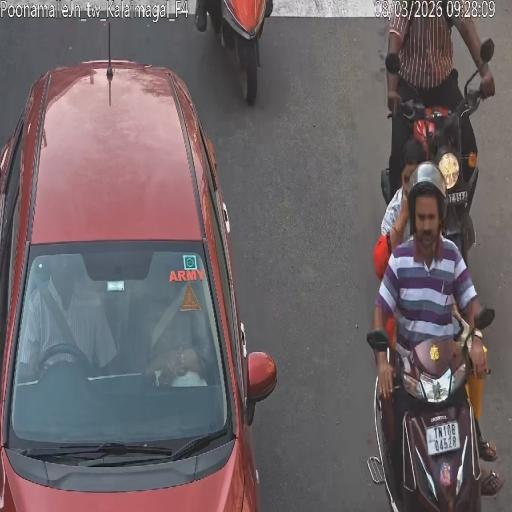person_with_seatbelt: (32, 271, 82, 358), (146, 275, 190, 358)
